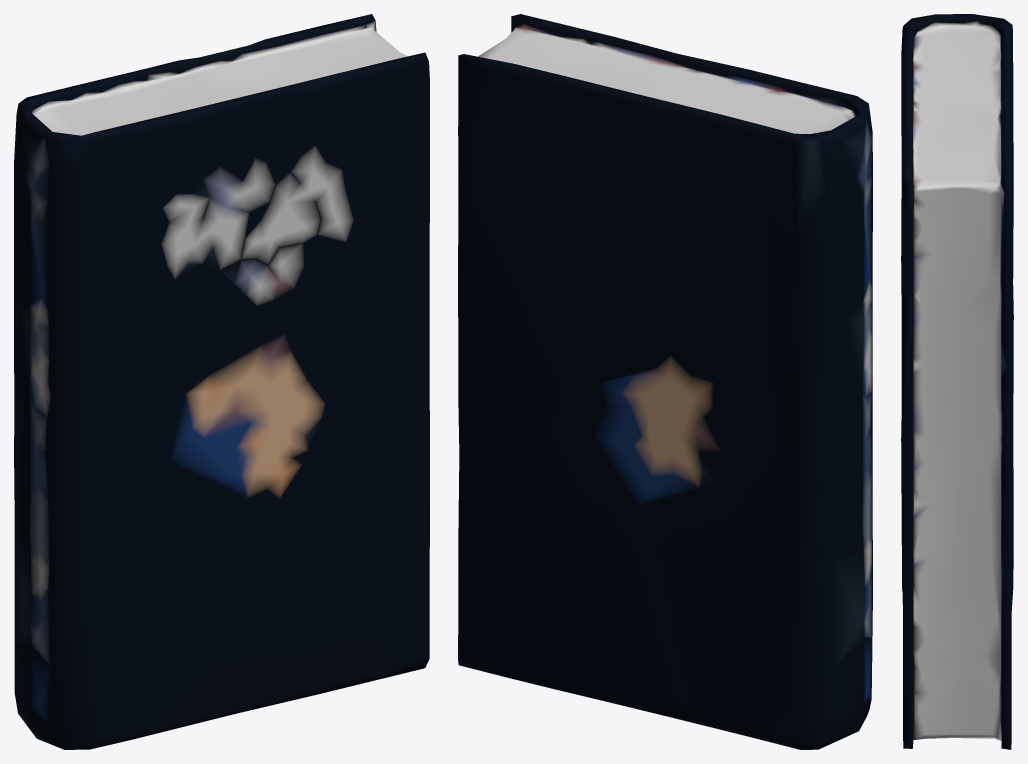
Rendered from gen3d-book-lod0.glb.
The picture shows the model from 3 angles, left to right: view 1: azimuth 30°, elevation 25°; view 2: azimuth 150°, elevation 25°; view 3: azimuth 270°, elevation 25°; orthographic projection. The views are drawn at different scales.
Parts seen in each view (by area): view 1: part_0; view 2: part_0; view 3: part_0.
Part boxes in pixels (x1,y1,x2,y2): part_0: (14,14,429,749); part_0: (458,14,872,749); part_0: (901,14,1013,749).
Size of the model in its own units: 0.6395 by 1 by 0.1788.
